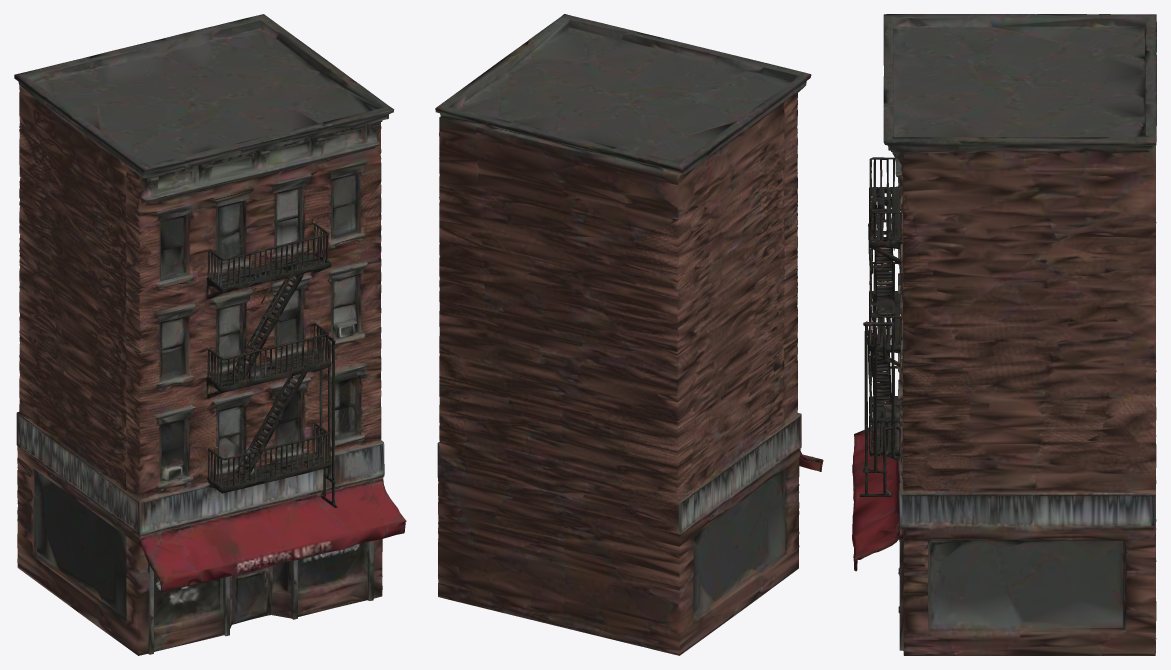
Rendered from pork_store.glb.
3 views of the same model, side by side, from view 1: azimuth 30°, elevation 25°; view 2: azimuth 150°, elevation 25°; view 3: azimuth 270°, elevation 25° (orthographic). The views are drawn at different scales.
Parts seen in each view (by area): view 1: mesh_node; view 2: mesh_node; view 3: mesh_node.
Boxes of the visible parts, left/top/right/bottom form: mesh_node: left=14, top=14, right=406, bottom=655; mesh_node: left=435, top=14, right=823, bottom=655; mesh_node: left=852, top=14, right=1156, bottom=655.
Size of the model in its own units: 7.42 by 14 by 7.49.
1 material, 1 textured.
